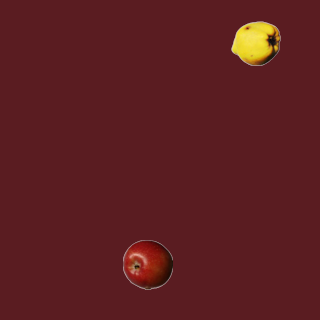Apple Braeburn: (122, 239, 172, 289)
Quince: (230, 18, 280, 68)
